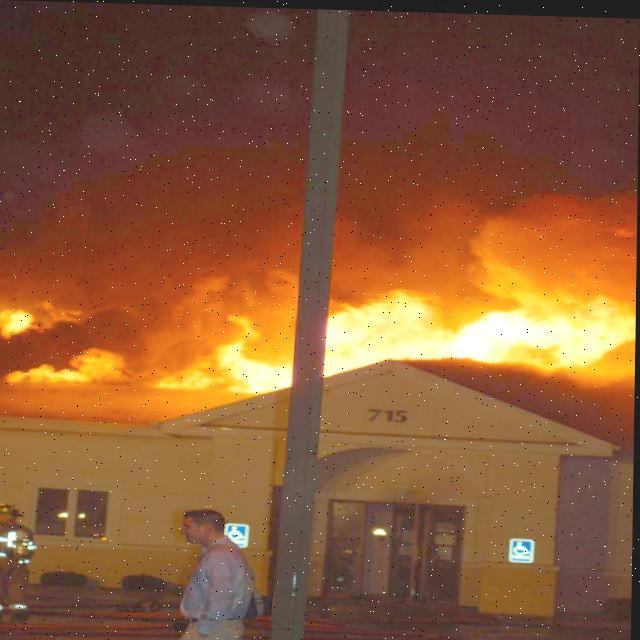Fire: (2, 282, 636, 410)
